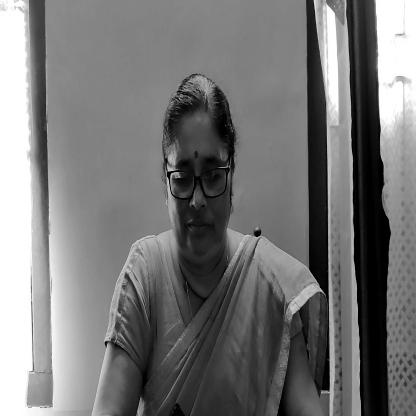Normal: (159, 78, 240, 264)
